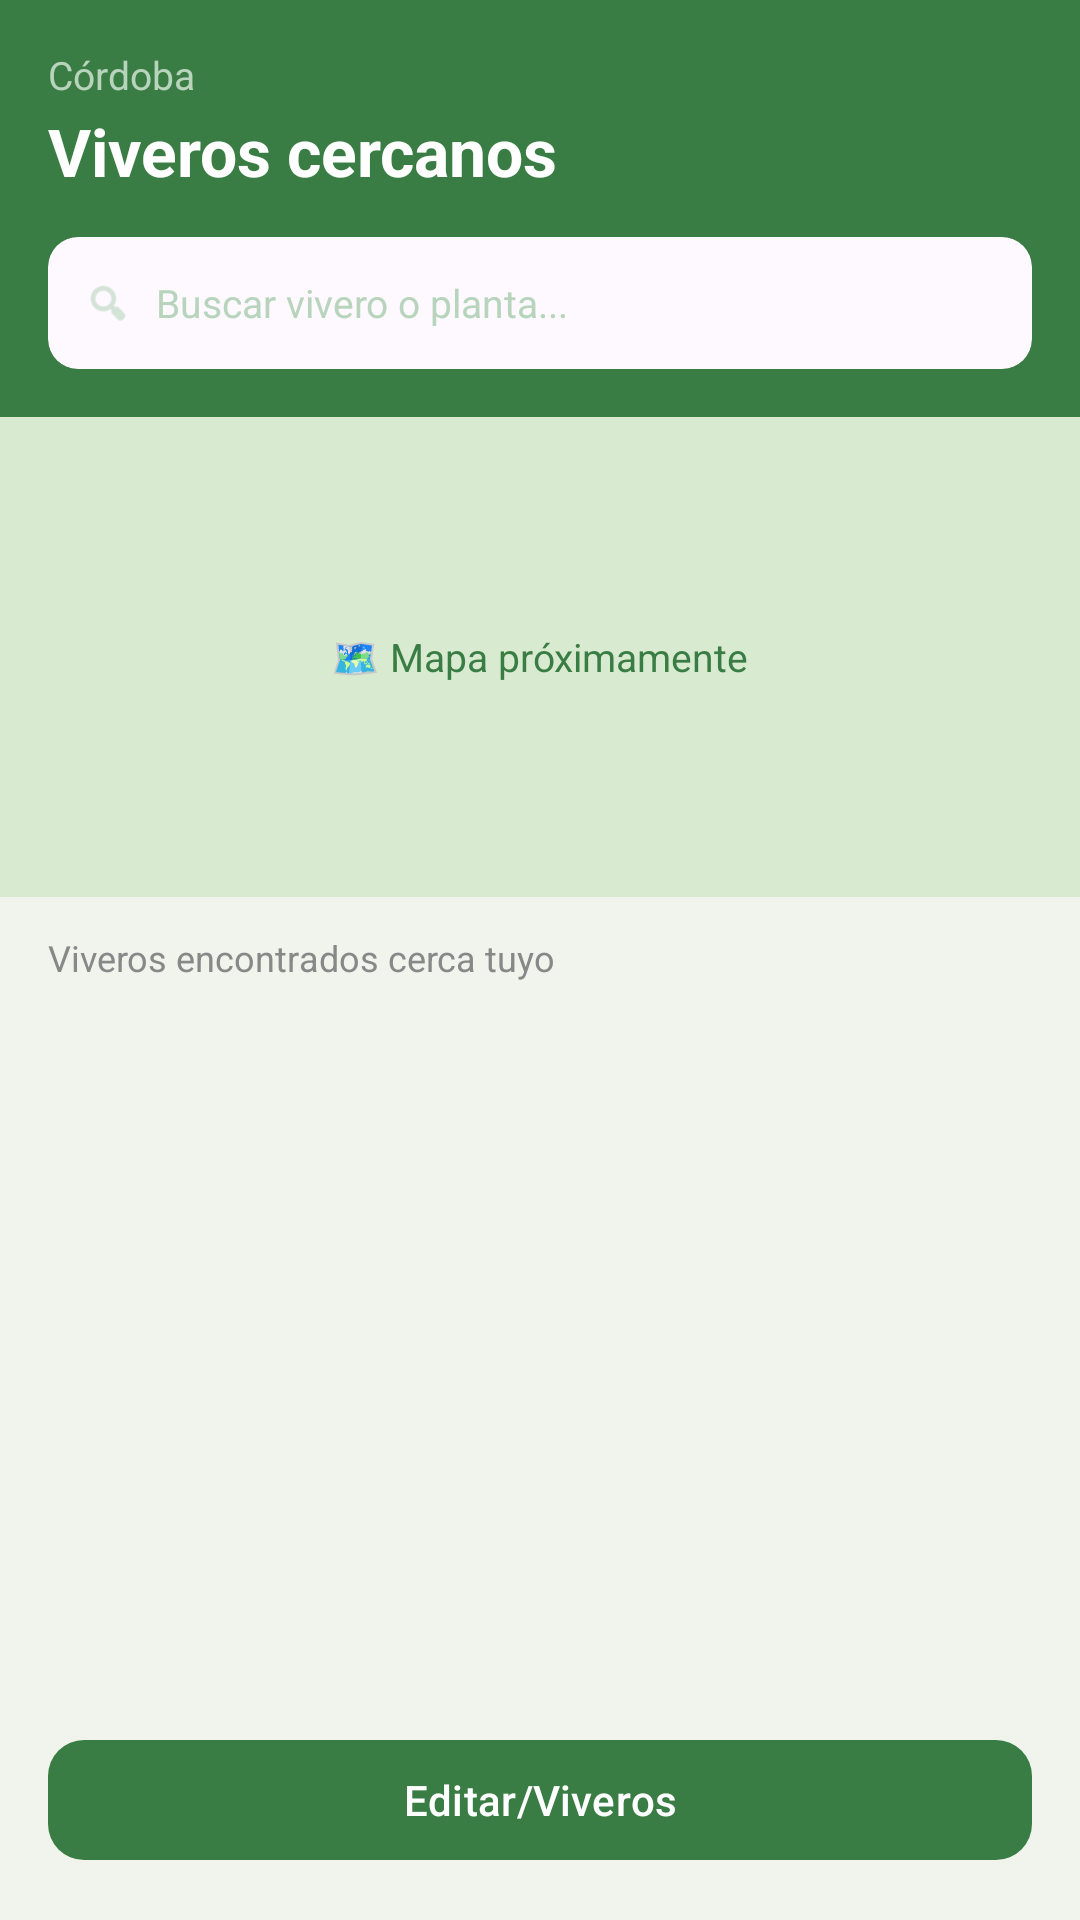

Point at icon controls on the screen. Image size 1080px×1920px, points as (x=x, y=y).
search: (x=108, y=303)
